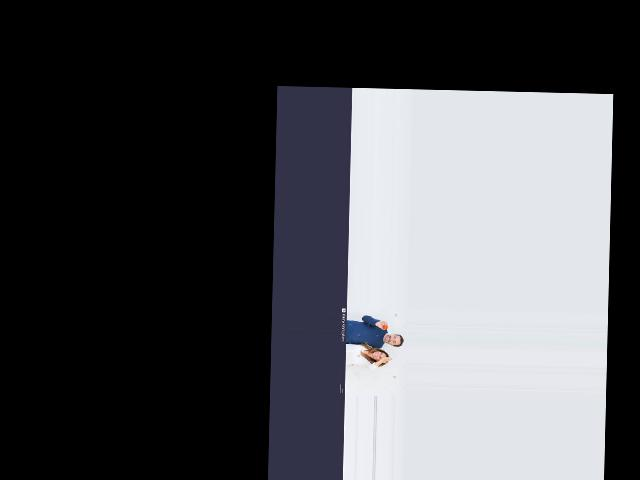tomato: (383, 325, 388, 330)
